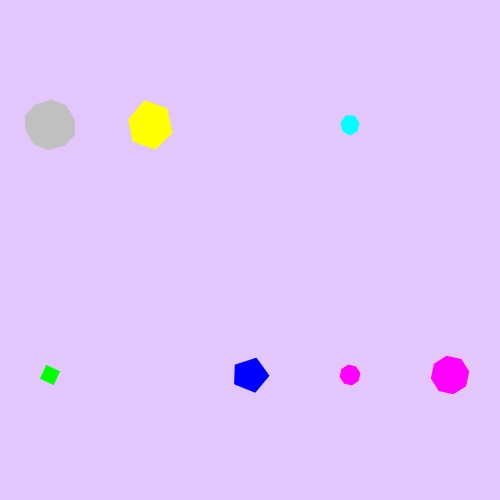decagon: (20, 98, 80, 153)
heptagon: (336, 111, 365, 139)
hexagon: (122, 101, 179, 149)
octagon: (427, 352, 474, 399), (335, 360, 365, 390)
pentagon: (229, 354, 271, 396)
quadrilateral: (35, 360, 65, 390)
